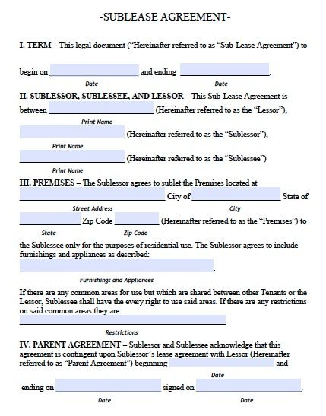textline: (17, 258, 215, 275), (18, 315, 228, 328), (18, 185, 167, 203), (46, 100, 157, 118), (194, 379, 304, 396), (15, 125, 129, 141), (18, 148, 125, 165), (51, 380, 166, 395), (189, 186, 283, 204), (177, 63, 268, 79), (49, 62, 139, 78), (18, 211, 83, 228), (167, 360, 276, 370), (112, 213, 161, 228)
